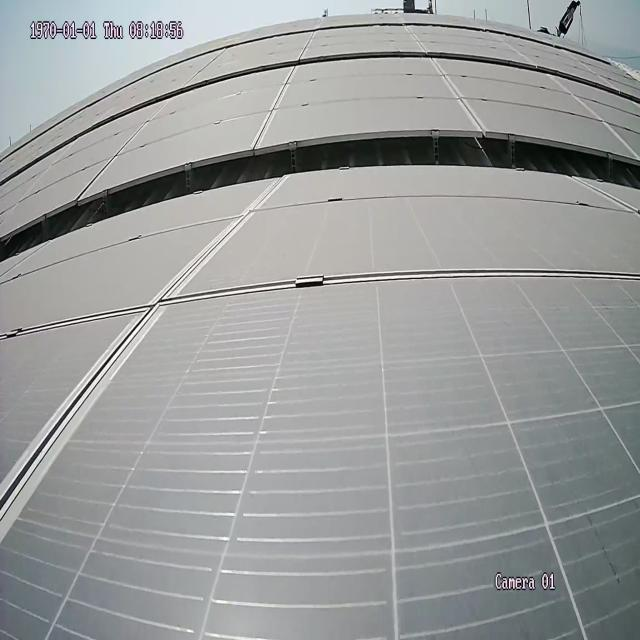interior panel: (0, 189, 267, 547), (196, 263, 640, 310), (3, 299, 136, 348), (431, 66, 485, 127), (251, 71, 296, 140)
outher panel: (1, 129, 640, 261)
